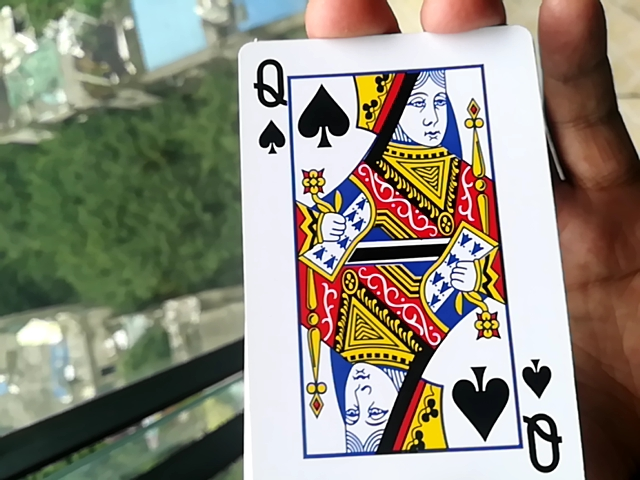ht q: (228, 23, 584, 480)
